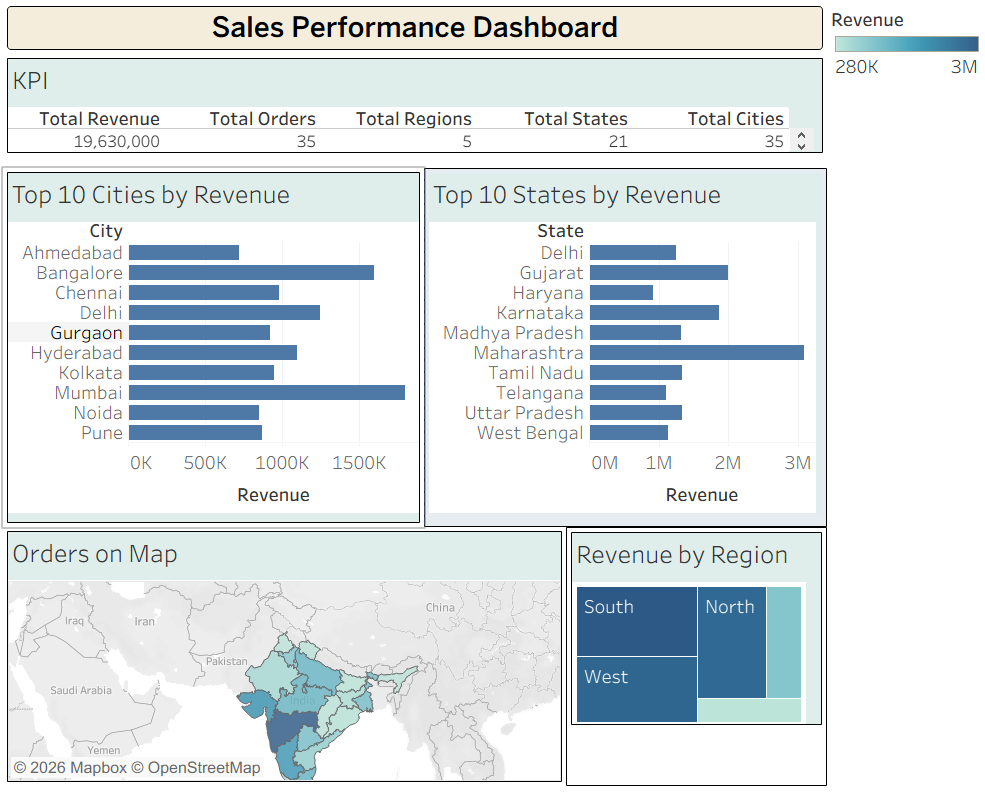

This screenshot's page, from the dashboard's own definition file:
{"tool":"tableau","page":{"name":"Summary","canvas":[1000,800],"ordinal":1},"visuals":[{"type":"text","box":[8,8,824,52.3]},{"type":"legend","title":"Orders on Map","param":"[federated.11i3n6z0h3yg9116sc9u80vdlbva].[sum:Revenue:qk]","box":[832,8,160,81]},{"type":"worksheet","title":"KPI","mark":"Automatic","box":[8,60.3,824,103]},{"type":"worksheet","title":"Top 10 Cities by Revenue","mark":"Automatic","rows":["City"],"cols":["Revenue"],"box":[8,174,421,359]},{"type":"worksheet","title":"Top 10 States by Revenue","mark":"Automatic","rows":["State"],"cols":["Revenue"],"box":[430,175,401,348]},{"type":"worksheet","title":"Orders on Map","mark":"Automatic","box":[8,533,563,259]},{"type":"worksheet","title":"Revenue by Region","mark":"Automatic","box":[572,534,259,201]}]}

Visuals, with their boxes in screenshot pixels (x1, y1, x2, y2), scaled from the page's 1000x800 canvas onto the 985x794 screenshot:
text: bbox=[8, 8, 820, 60]
"Orders on Map" legend: bbox=[820, 8, 977, 88]
"KPI" worksheet: bbox=[8, 60, 820, 162]
"Top 10 Cities by Revenue" worksheet: bbox=[8, 173, 423, 529]
"Top 10 States by Revenue" worksheet: bbox=[424, 174, 819, 519]
"Orders on Map" worksheet: bbox=[8, 529, 562, 786]
"Revenue by Region" worksheet: bbox=[563, 530, 819, 729]
